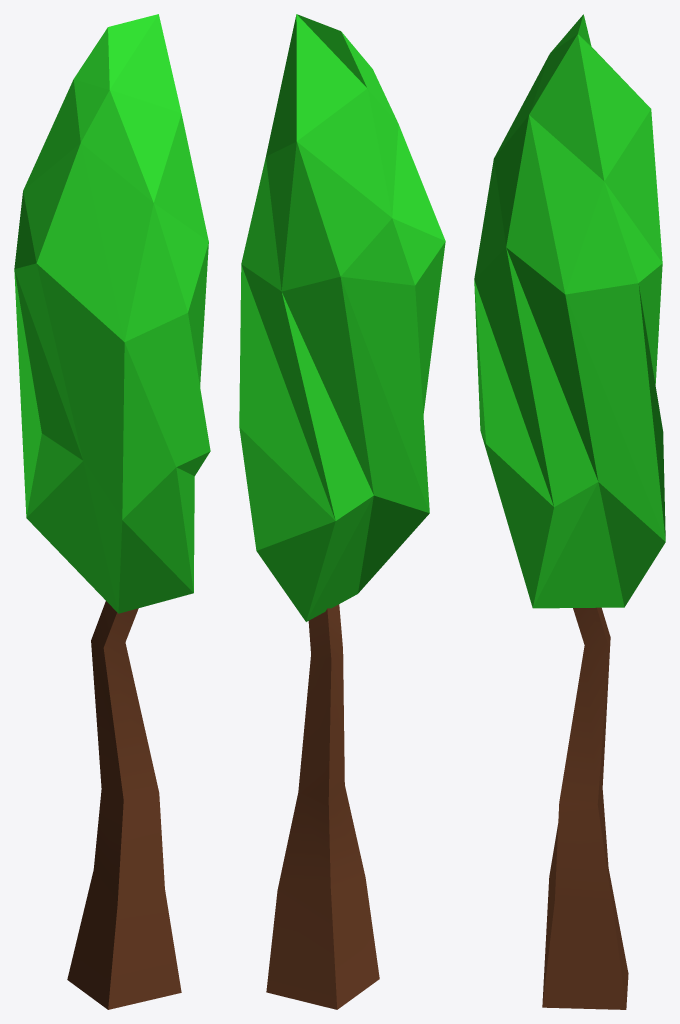
File: tree6.fbx
3 renders of one model, left to right at view 1: azimuth 30°, elevation 25°; view 2: azimuth 150°, elevation 25°; view 3: azimuth 270°, elevation 25°, orthographic.
Visible parts, largest first — view 1: tree6; view 2: tree6; view 3: tree6.
Boxes of the visible parts, x1,y1,x2,y2 form: tree6: [14, 14, 210, 1009]; tree6: [239, 14, 445, 1009]; tree6: [474, 14, 665, 1009].
Bounding box in the file's own units: 0.6548 × 3.37 × 0.6016.
